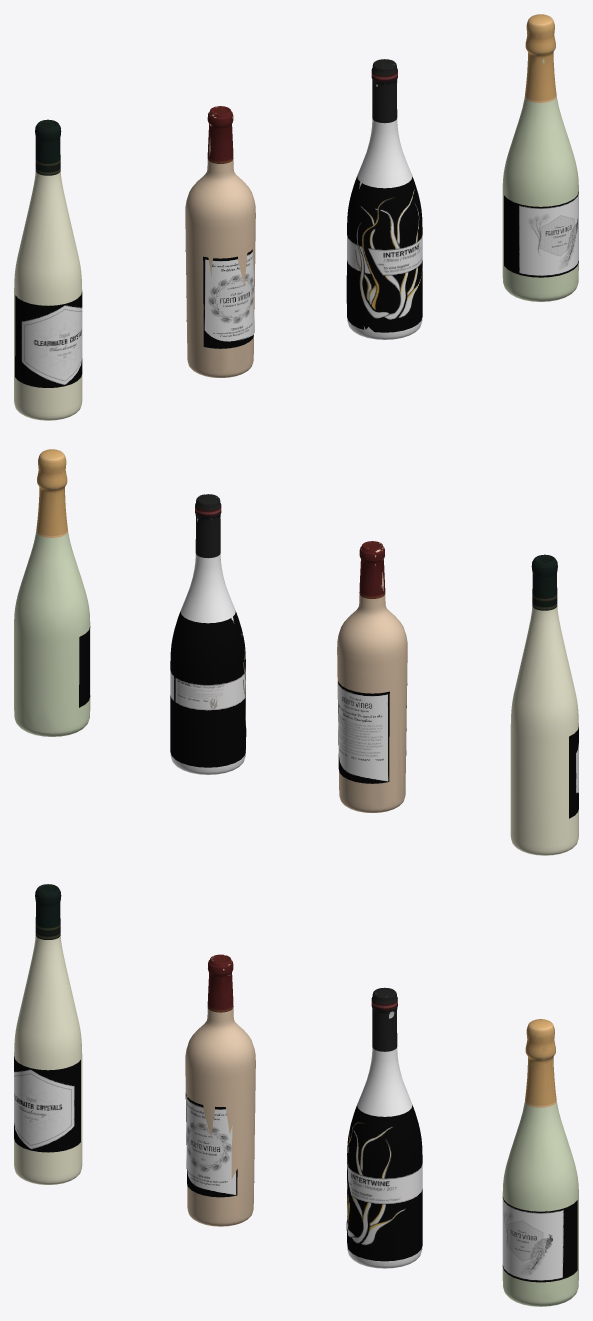
The model's file is wine_bottles_01.glb.
3 views of the same model, one above another, from view 1: azimuth 30°, elevation 25°; view 2: azimuth 150°, elevation 25°; view 3: azimuth 330°, elevation 25° (orthographic).
Visible parts, largest first — view 1: wine_bottles_01_bordeaux, wine_bottles_01_burgundy, wine_bottles_01_alsace, wine_bottles_01_champagne; view 2: wine_bottles_01_bordeaux, wine_bottles_01_burgundy, wine_bottles_01_champagne, wine_bottles_01_alsace; view 3: wine_bottles_01_bordeaux, wine_bottles_01_burgundy, wine_bottles_01_alsace, wine_bottles_01_champagne.
Boxes of the visible parts, x1,y1,x2,y2 form: wine_bottles_01_bordeaux: [14, 14, 578, 420]; wine_bottles_01_burgundy: [346, 176, 422, 332]; wine_bottles_01_alsace: [15, 292, 82, 387]; wine_bottles_01_champagne: [504, 191, 578, 277]; wine_bottles_01_bordeaux: [14, 449, 578, 855]; wine_bottles_01_burgundy: [170, 611, 246, 767]; wine_bottles_01_champagne: [79, 626, 90, 707]; wine_bottles_01_alsace: [569, 727, 578, 818]; wine_bottles_01_bordeaux: [14, 884, 578, 1306]; wine_bottles_01_burgundy: [346, 1105, 422, 1261]; wine_bottles_01_alsace: [14, 1056, 80, 1152]; wine_bottles_01_champagne: [502, 1196, 577, 1282].
Size of the model in its own units: 0.6763 by 0.3313 by 0.0805.
9 materials, 6 textured.
